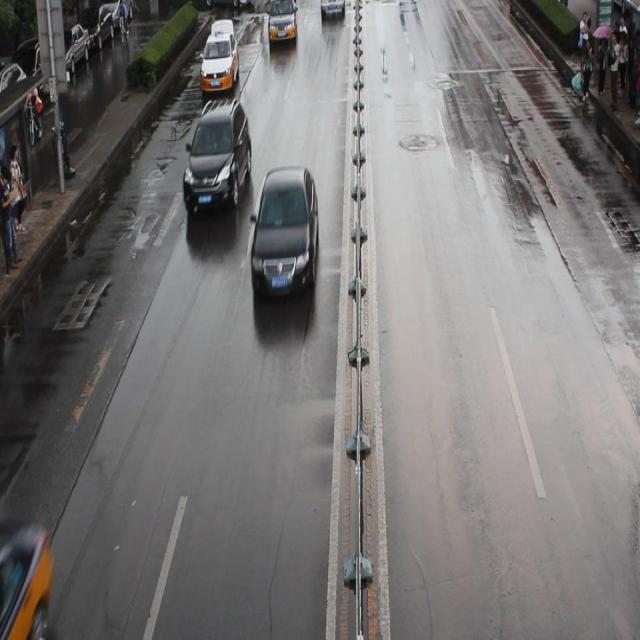car: (249, 163, 319, 300), (181, 98, 251, 214), (200, 31, 239, 89), (268, 1, 298, 44), (319, 1, 345, 20)
